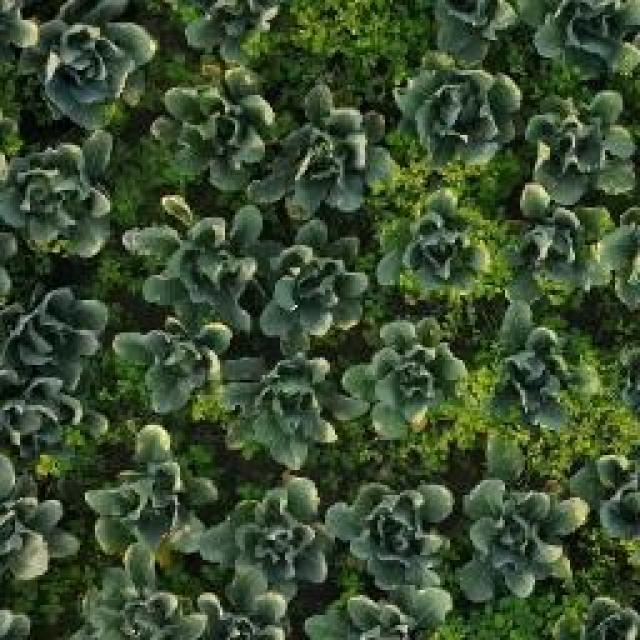cabbage: (135, 194, 251, 314), (266, 93, 384, 207), (110, 305, 222, 423), (355, 312, 465, 432), (38, 10, 148, 128), (0, 136, 104, 256), (91, 439, 202, 551), (230, 358, 344, 461), (160, 74, 275, 175), (466, 482, 572, 584), (338, 488, 449, 584), (212, 491, 318, 585), (266, 240, 364, 338), (384, 200, 490, 288), (404, 64, 500, 160), (483, 312, 567, 416), (513, 199, 606, 292), (534, 102, 628, 191), (0, 295, 94, 373), (532, 0, 640, 63)
